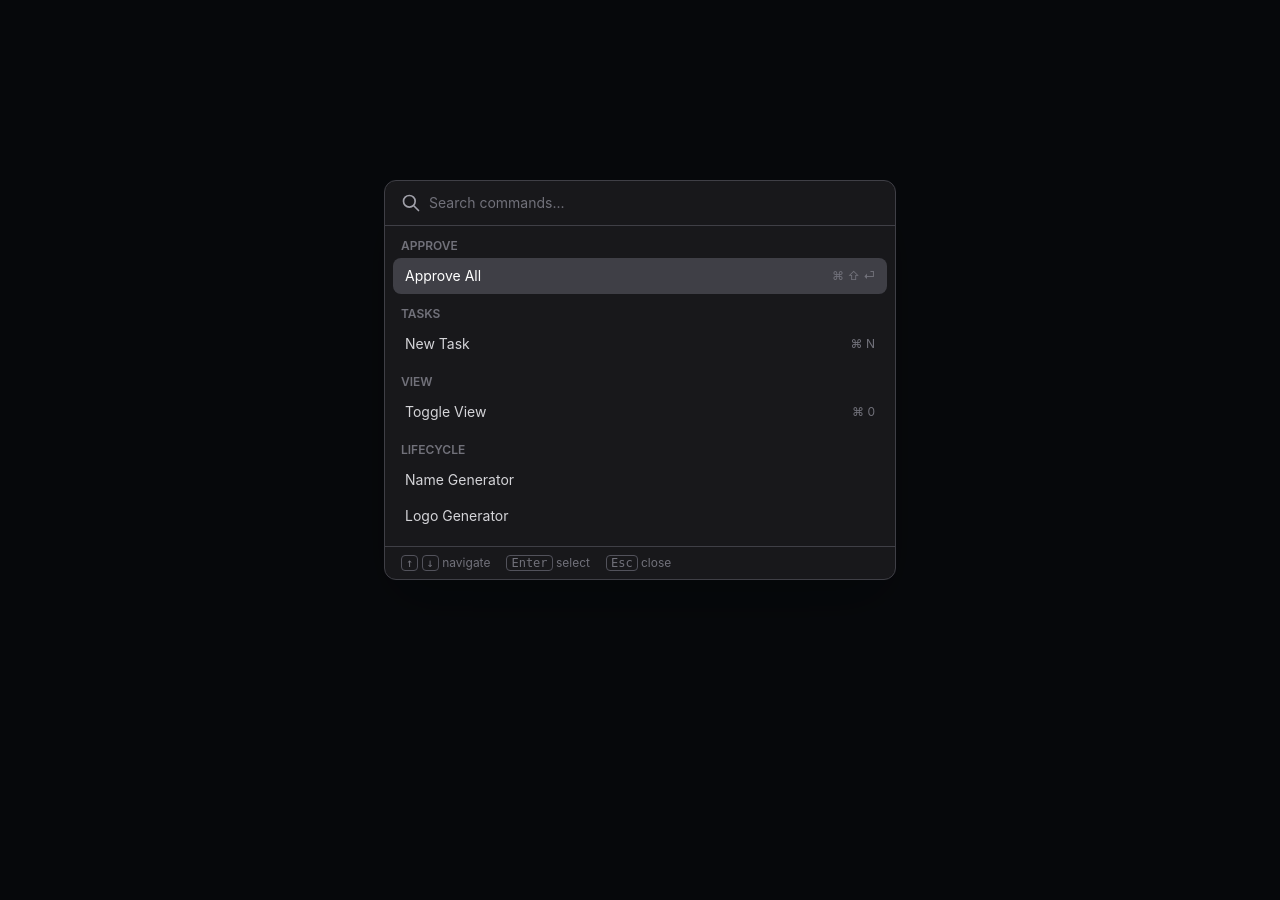
CommandPalette › shows "No matching commands" for impossible query
This screenshot has width=1280, height=900.
Type "zzzzzzz" into the field with placeholder "Search commands..." at (654,203), box [429,193,879,213]
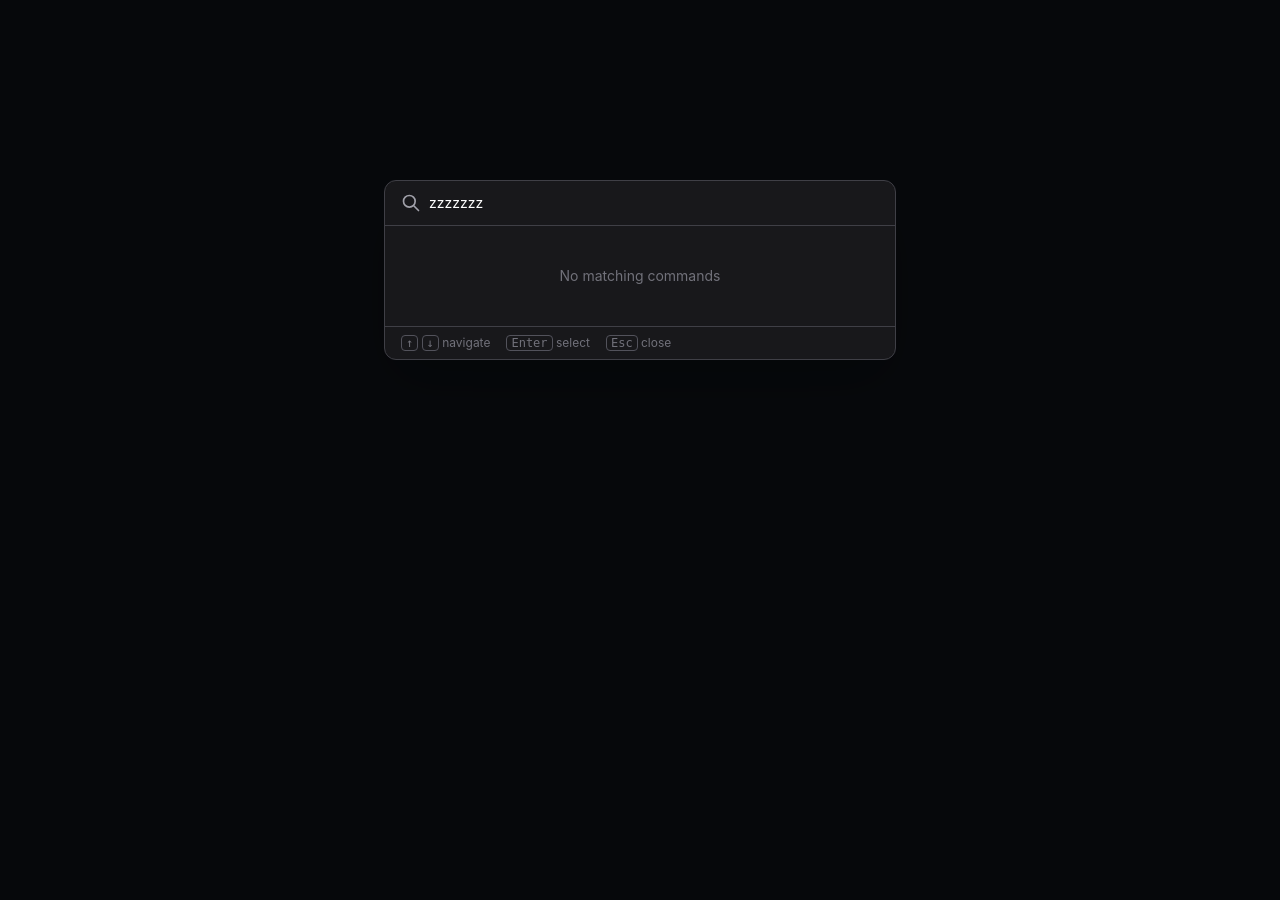
Check: the text "No matching commands" is shown, box [560,267,720,284]
